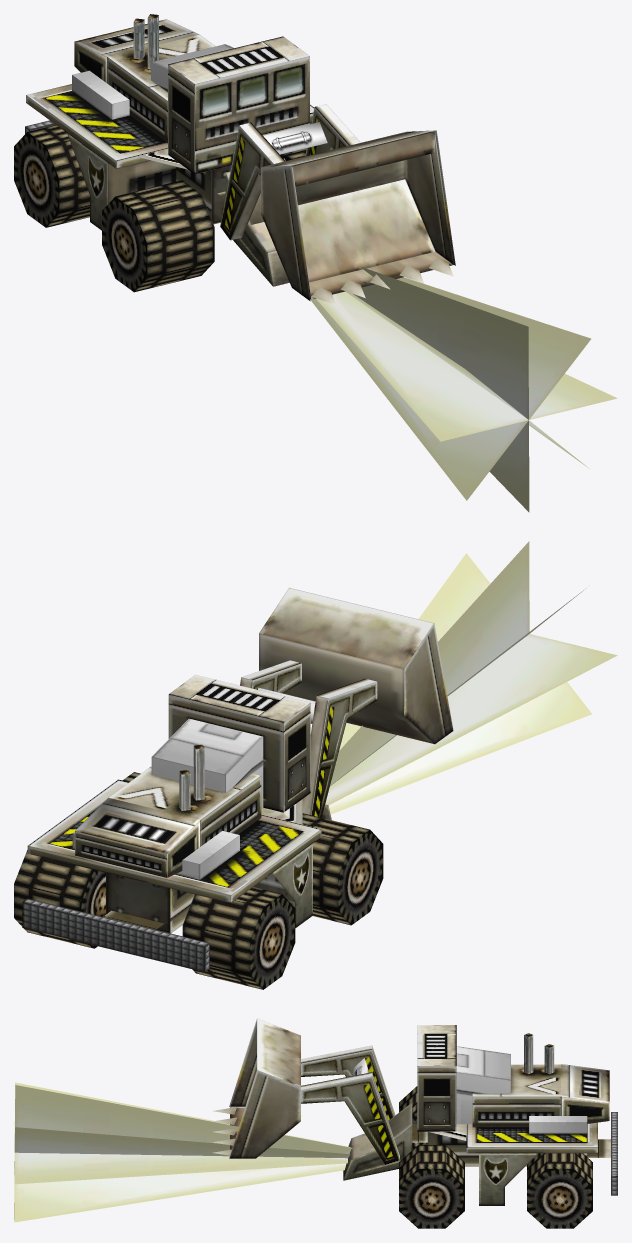
File: USA_DOZER_STATIC.obj
The picture shows the model from 3 angles, top to bottom: view 1: azimuth 30°, elevation 25°; view 2: azimuth 150°, elevation 25°; view 3: azimuth 270°, elevation 25°; orthographic projection. The views are drawn at different scales.
Visible parts, largest first — view 1: Chassis, Headlight, Bucket, Tire2, Tire4, Arms, PlayerColor1, PlayerColor3, PlayerColor2; view 2: Chassis, Headlight, Bucket, Tire4, Tire2, Arms, PlayerColor2, Tire3, PlayerColor1; view 3: Headlight, Chassis, Bucket, Arms, Tire1, Tire3, PlayerColor2, PlayerColor1, Tire2.
Part boxes in pixels (x1,y1,x2,y2): Chassis: (25, 14, 314, 286); Headlight: (310, 267, 617, 512); Bucket: (261, 130, 455, 304); Tire2: (102, 180, 214, 292); Tire4: (14, 125, 89, 227); Arms: (220, 104, 360, 240); PlayerColor1: (72, 70, 129, 119); PlayerColor3: (263, 122, 327, 154); PlayerColor2: (151, 44, 234, 92); Chassis: (22, 674, 331, 972); Headlight: (325, 541, 617, 814); Bucket: (259, 587, 453, 744); Tire4: (182, 887, 295, 989); Tire2: (302, 813, 383, 925); Arms: (240, 660, 377, 817); PlayerColor2: (151, 718, 263, 808); Tire3: (14, 850, 105, 948); PlayerColor1: (72, 830, 239, 879); Headlight: (14, 1082, 353, 1222); Chassis: (343, 1025, 617, 1205); Bucket: (212, 1018, 300, 1158); Arms: (301, 1045, 399, 1164); Tire1: (399, 1145, 464, 1228); Tire3: (527, 1153, 592, 1228); PlayerColor2: (456, 1046, 510, 1124); PlayerColor1: (529, 1116, 587, 1133); Tire2: (399, 1086, 427, 1149).
Bounding box in the file's own units: 20.01 × 19.69 × 60.84.
